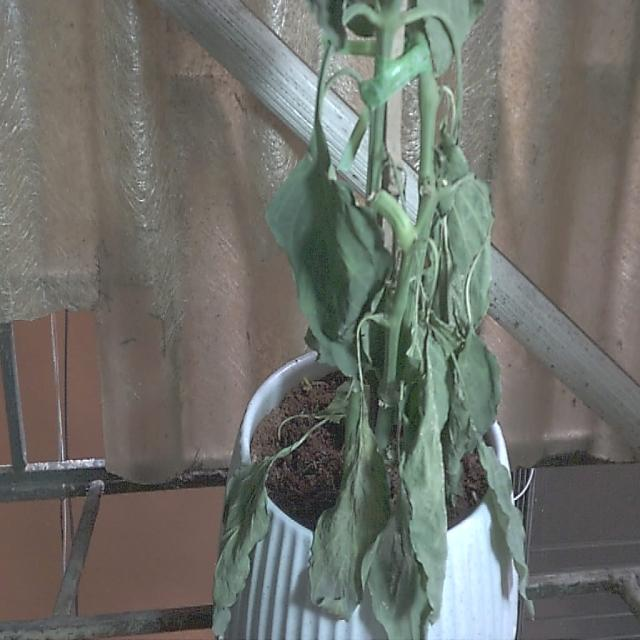Leaf: (267, 121, 391, 377), (212, 422, 321, 637), (310, 391, 389, 619), (400, 335, 449, 619), (212, 459, 271, 636), (479, 441, 533, 615), (362, 515, 429, 639), (418, 0, 483, 76), (309, 0, 346, 49)
